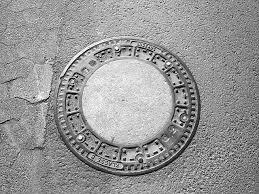wellcover: (53, 36, 203, 178)
